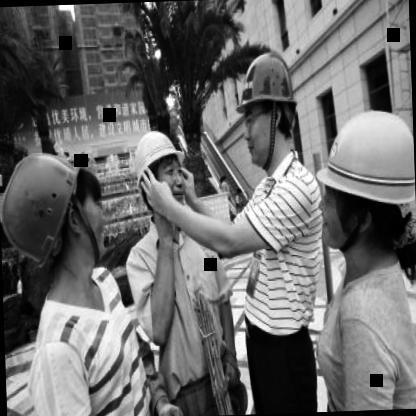helmet: (311, 91, 416, 287), (0, 134, 110, 290), (224, 37, 300, 177), (121, 121, 196, 213)
